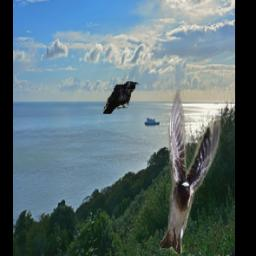Crow: (103, 80, 140, 114)
Swallow: (160, 89, 220, 254)
